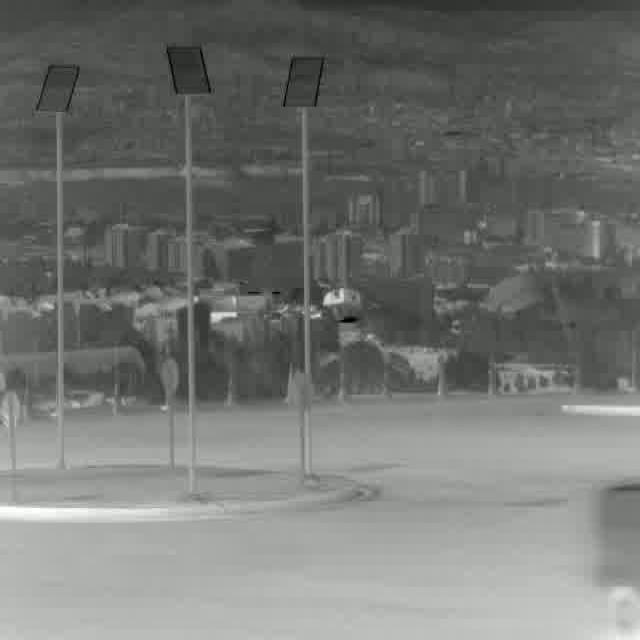Car: (593, 484, 640, 632)
